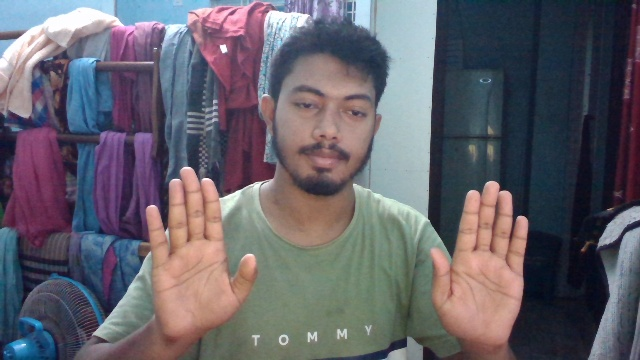thanks: (144, 168, 535, 351)
